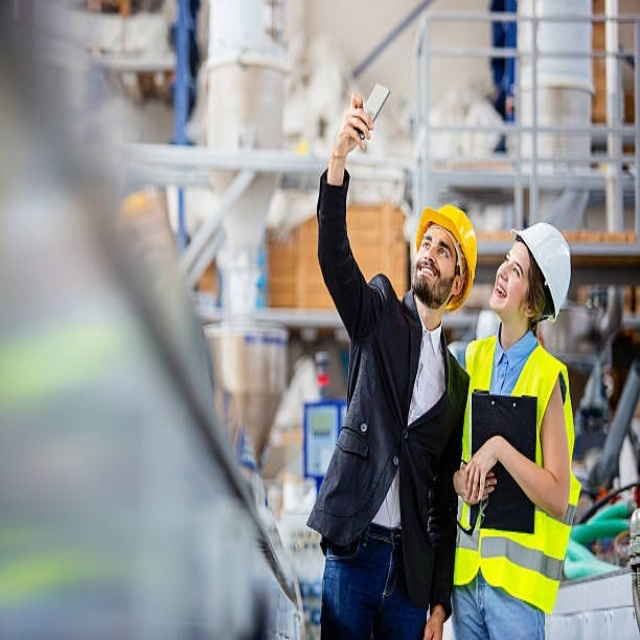Sin_gafas: (421, 227, 453, 265), (501, 245, 526, 290)
Sin_guantes: (330, 89, 378, 160), (456, 441, 499, 503)
Sin_mascara: (413, 256, 437, 292), (492, 278, 510, 309)
